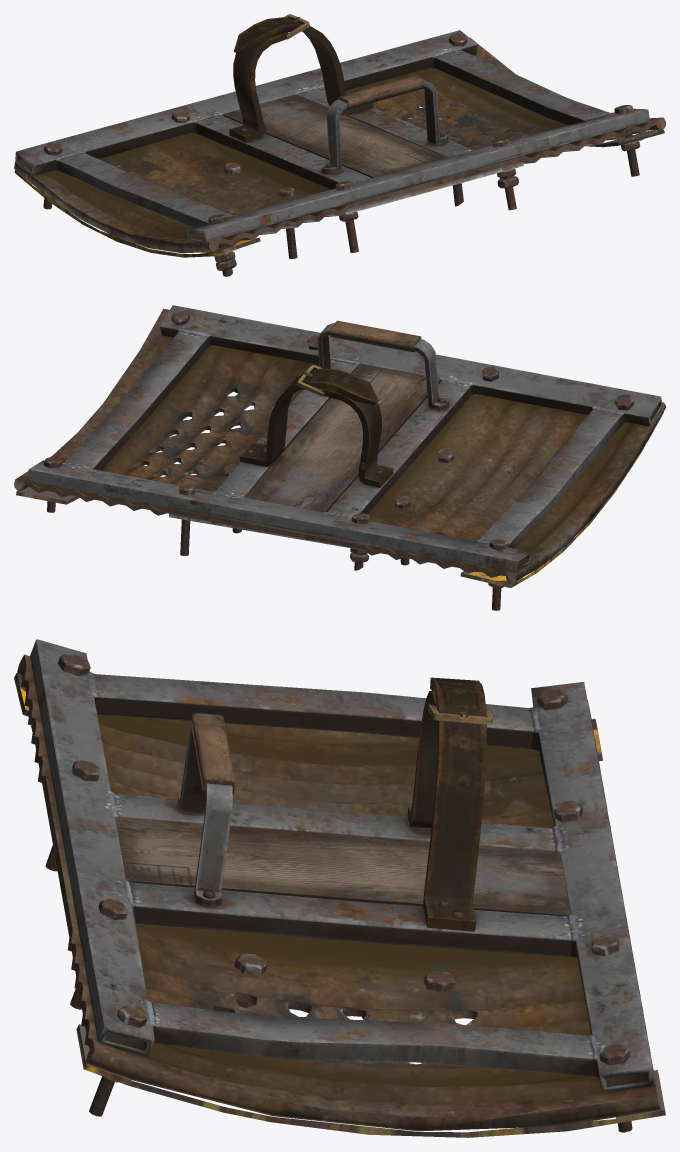
File: metalshield.backpack.glb
The picture shows the model from 3 angles, top to bottom: view 1: azimuth 30°, elevation 25°; view 2: azimuth 150°, elevation 25°; view 3: azimuth 270°, elevation 25°; orthographic projection. The views are drawn at different scales.
Visible parts, largest first — view 1: w_metal_shield_LOD0; view 2: w_metal_shield_LOD0; view 3: w_metal_shield_LOD0.
Boxes of the visible parts, x1,y1,x2,y2 form: w_metal_shield_LOD0: (14,14,665,276); w_metal_shield_LOD0: (14,305,665,610); w_metal_shield_LOD0: (14,639,665,1137).
Bounding box in the file's own units: 0.8936 × 0.3215 × 0.6098.
2 materials, 2 textured.
